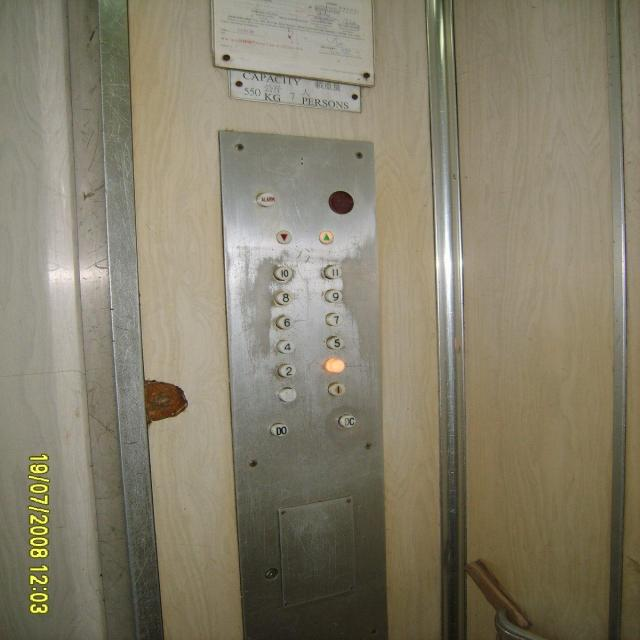1: (326, 380, 348, 398)
10: (272, 265, 294, 282)
11: (322, 264, 344, 280)
2: (276, 362, 298, 379)
4: (274, 338, 296, 354)
5: (324, 334, 346, 351)
6: (274, 314, 296, 331)
7: (322, 310, 344, 328)
8: (272, 289, 294, 306)
9: (322, 287, 344, 304)
DC: (336, 412, 358, 429)
DO: (268, 421, 290, 438)
M: (276, 386, 298, 403)
down: (272, 228, 294, 246)
empty: (326, 188, 358, 216), (324, 356, 346, 374)
text_alarm bell: (255, 190, 277, 209)
up: (314, 228, 336, 246)
